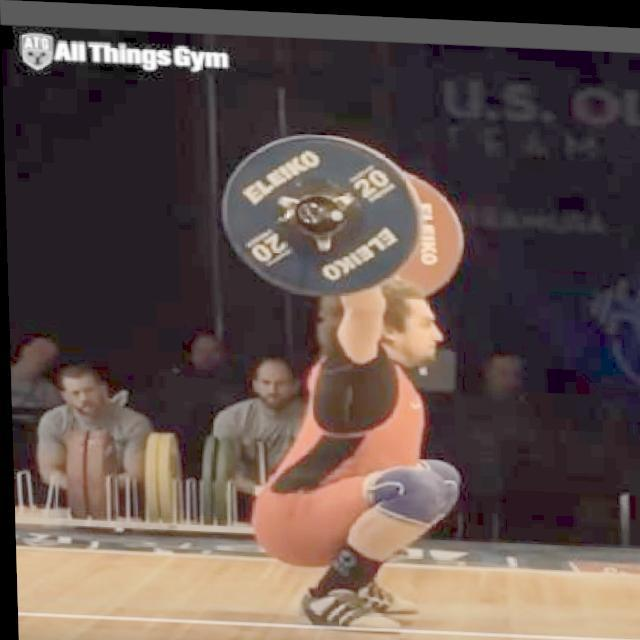barbell: (216, 124, 424, 297)
